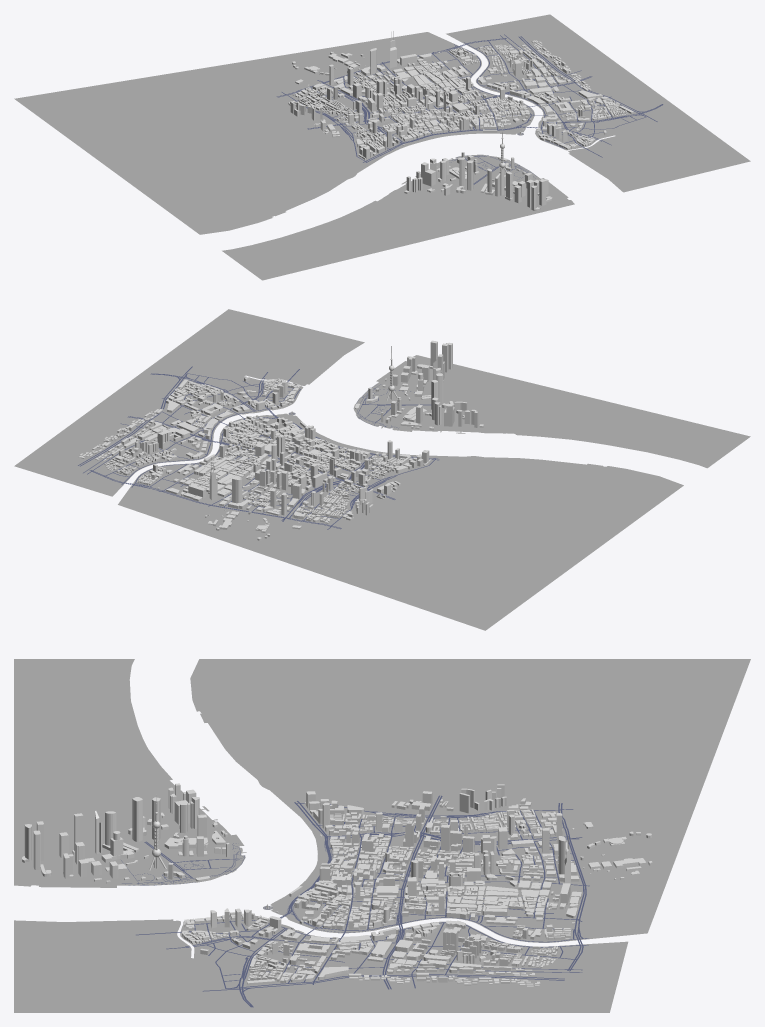
File: shanghai.gltf
3 views of the same model, one above another, from view 1: azimuth 30°, elevation 25°; view 2: azimuth 150°, elevation 25°; view 3: azimuth 270°, elevation 25° (orthographic). The views are drawn at different scales.
Parts seen in each view (by area): view 1: LANDMASS, CITY_UNTRIANGULATED, ROADS; view 2: LANDMASS, CITY_UNTRIANGULATED, ROADS; view 3: LANDMASS, CITY_UNTRIANGULATED, ROADS.
Part boxes in pixels (left/top/right/bottom): LANDMASS: left=14, top=14, right=750, bottom=280; CITY_UNTRIANGULATED: left=288, top=31, right=634, bottom=210; ROADS: left=276, top=34, right=663, bottom=184; LANDMASS: left=14, top=309, right=750, bottom=630; CITY_UNTRIANGULATED: left=79, top=340, right=483, bottom=540; ROADS: left=78, top=366, right=439, bottom=529; LANDMASS: left=14, top=659, right=750, bottom=1012; CITY_UNTRIANGULATED: left=22, top=783, right=652, bottom=986; ROADS: left=121, top=795, right=589, bottom=1007.
Bounding box in the file's own units: 4027 × 400 × 3545.
